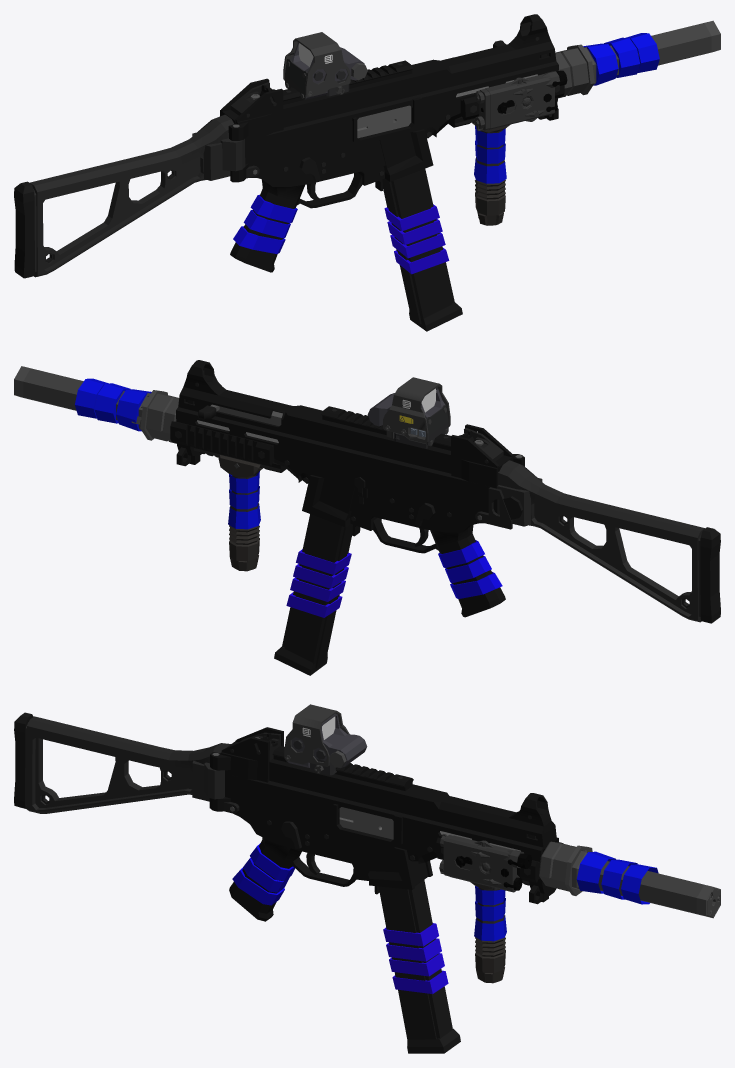
The model's file is UMP.fbx.
3 renders of one model, top to bottom at view 1: azimuth 30°, elevation 25°; view 2: azimuth 150°, elevation 25°; view 3: azimuth 330°, elevation 25°, orthographic.
Parts seen in each view (by area): view 1: Cylinder.016, Cylinder.010, PBS-1, EXPS2, Cube.027, vertical_grip, Cylinder.014; view 2: Cylinder.016, Cylinder.010, PBS-1, EXPS2, vertical_grip, Cylinder.012; view 3: Cylinder.016, Cylinder.010, PBS-1, EXPS2, Cube.027, vertical_grip, Cylinder.014.
Part boxes in pixels (x1,y1,x2,y2): Cylinder.016: (14, 14, 564, 278); Cylinder.010: (382, 169, 462, 331); PBS-1: (555, 20, 720, 98); EXPS2: (283, 32, 367, 99); Cube.027: (474, 70, 567, 130); vertical_grip: (471, 119, 510, 225); Cylinder.014: (357, 105, 411, 138); Cylinder.016: (170, 360, 720, 623); Cylinder.010: (274, 514, 352, 675); PBS-1: (14, 366, 179, 443); EXPS2: (367, 377, 450, 448); vertical_grip: (218, 455, 263, 571); Cylinder.012: (198, 404, 282, 426); Cylinder.016: (14, 712, 563, 921); Cylinder.010: (378, 880, 460, 1053); PBS-1: (539, 841, 720, 918); EXPS2: (284, 704, 367, 775); Cube.027: (439, 834, 531, 892); vertical_grip: (470, 882, 506, 983); Cylinder.014: (339, 807, 393, 839).
Size of the model in its own units: 767 by 326 by 79.07.
